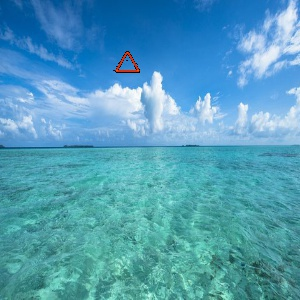triangle: (115, 49, 141, 73)
